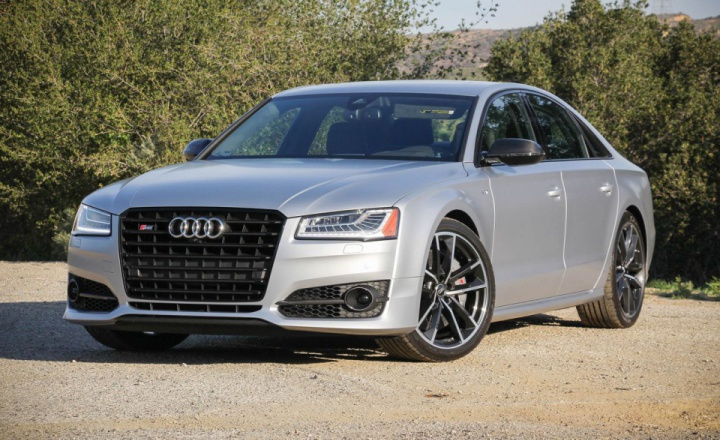audi: (164, 212, 227, 240)
